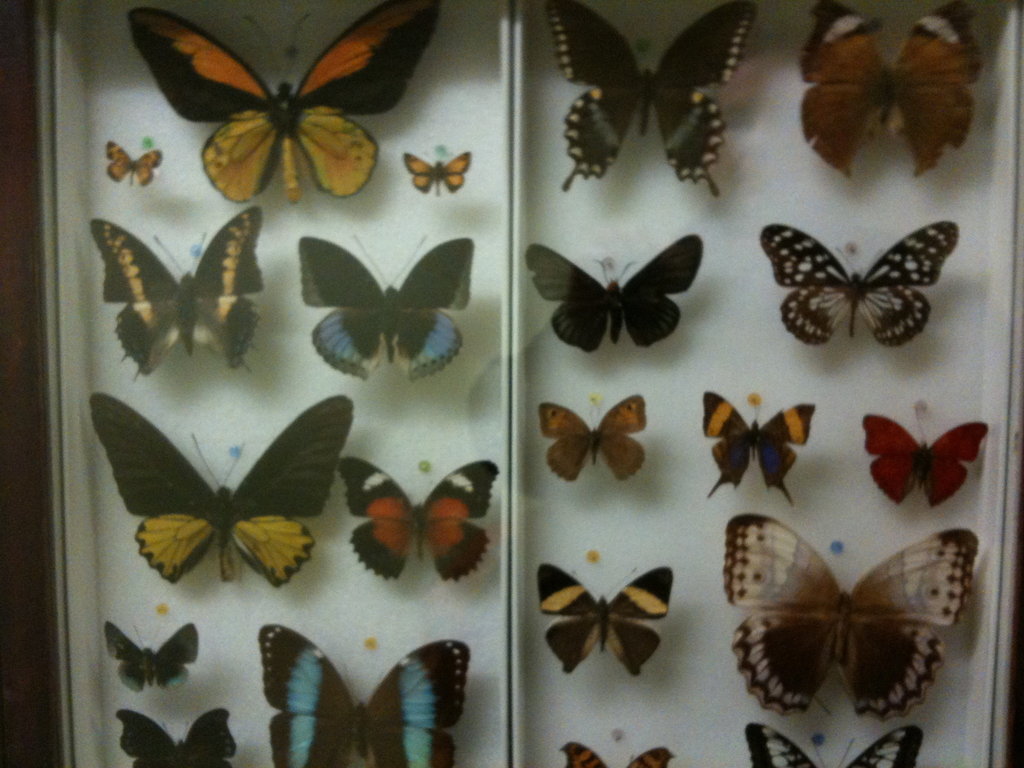Butterfly: (75, 393, 348, 599), (726, 515, 979, 713), (773, 7, 1024, 188), (175, 2, 399, 204), (535, 6, 761, 191), (744, 200, 975, 353), (294, 221, 489, 391), (84, 213, 282, 379), (261, 608, 465, 768), (523, 217, 715, 375), (522, 548, 698, 694), (352, 452, 498, 589), (856, 393, 997, 524), (691, 385, 831, 508), (531, 395, 673, 503), (98, 617, 216, 703), (116, 695, 235, 768), (95, 115, 170, 202), (406, 139, 477, 202)
